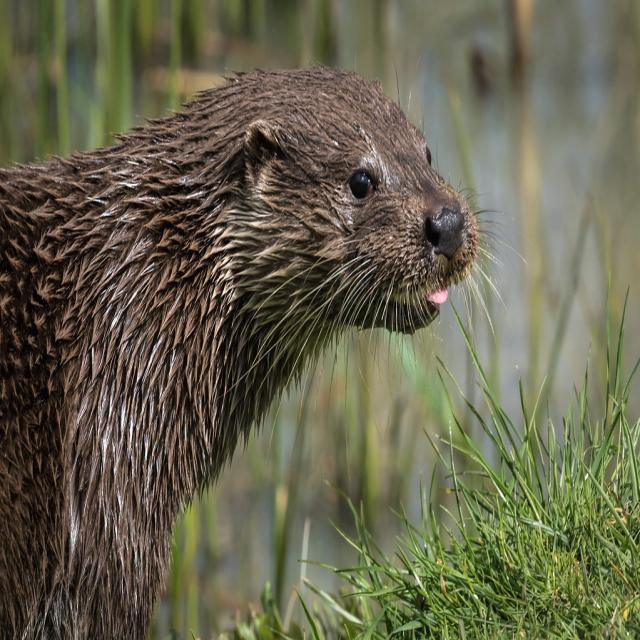otter: (1, 67, 480, 640)
